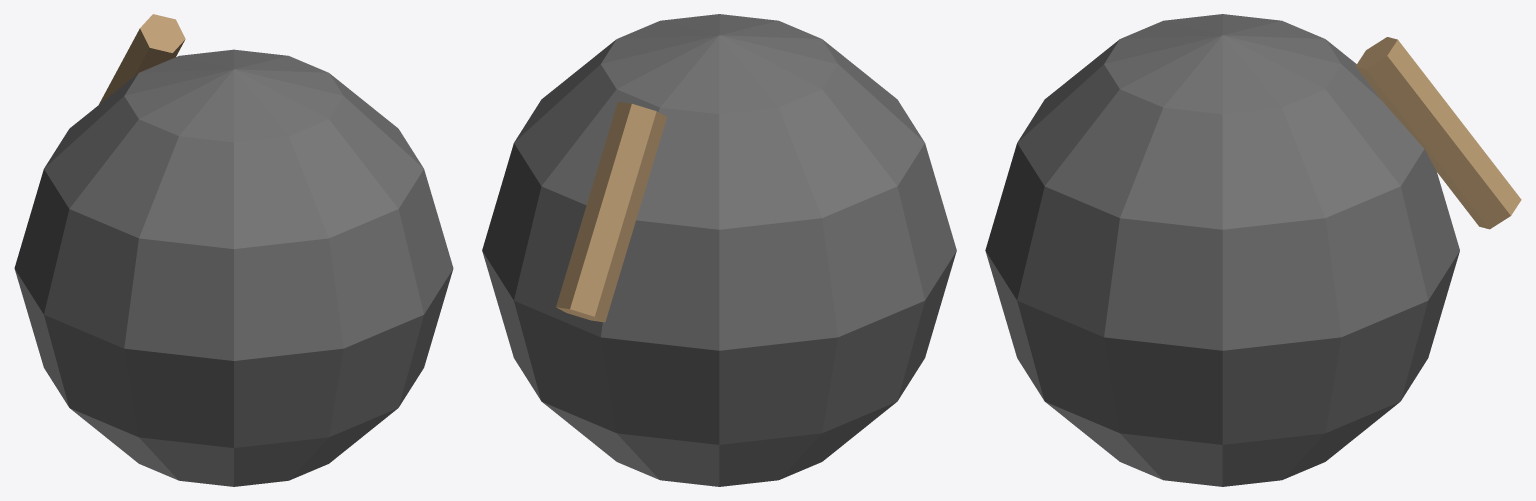
Rendered from SM_Proj_CannonBall_01.glb.
The picture shows the model from 3 angles, left to right: view 1: azimuth 30°, elevation 25°; view 2: azimuth 150°, elevation 25°; view 3: azimuth 270°, elevation 25°; orthographic projection. The views are drawn at different scales.
Parts seen in each view (by area): view 1: SM_CannonBall, SM_CannonBall_Fuse; view 2: SM_CannonBall, SM_CannonBall_Fuse; view 3: SM_CannonBall, SM_CannonBall_Fuse.
Part boxes in pixels (x1=…): SM_CannonBall: x1=14, y1=49, x2=453, y2=486; SM_CannonBall_Fuse: x1=99, y1=14, x2=185, y2=104; SM_CannonBall: x1=482, y1=14, x2=956, y2=486; SM_CannonBall_Fuse: x1=556, y1=102, x2=666, y2=322; SM_CannonBall: x1=985, y1=14, x2=1459, y2=486; SM_CannonBall_Fuse: x1=1355, y1=37, x2=1521, y2=229.
Bounding box in the file's own units: 0.22 × 0.22 × 0.2485.
